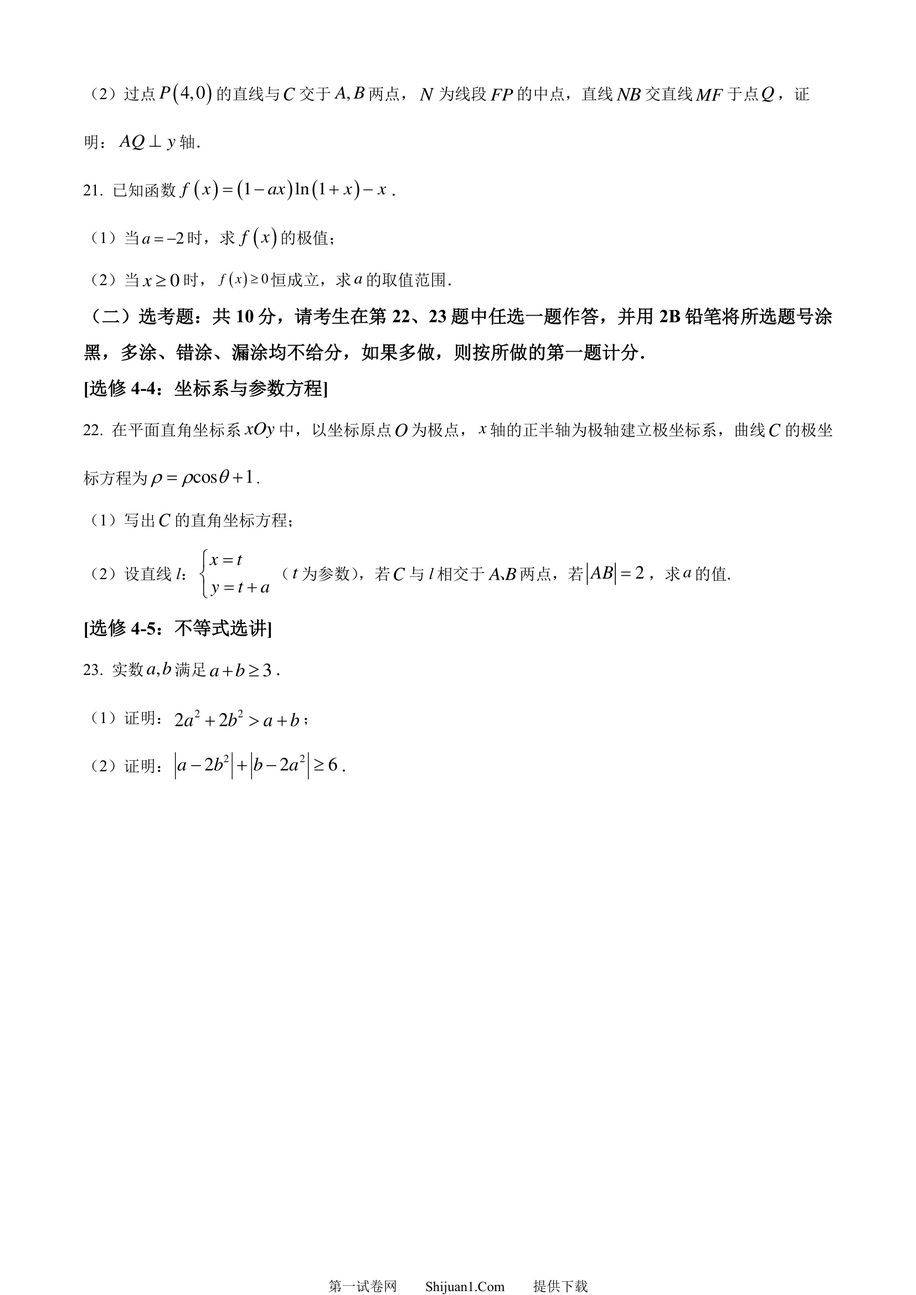question: (75, 413, 855, 603), (73, 66, 824, 155), (73, 153, 497, 295), (68, 654, 398, 791)
